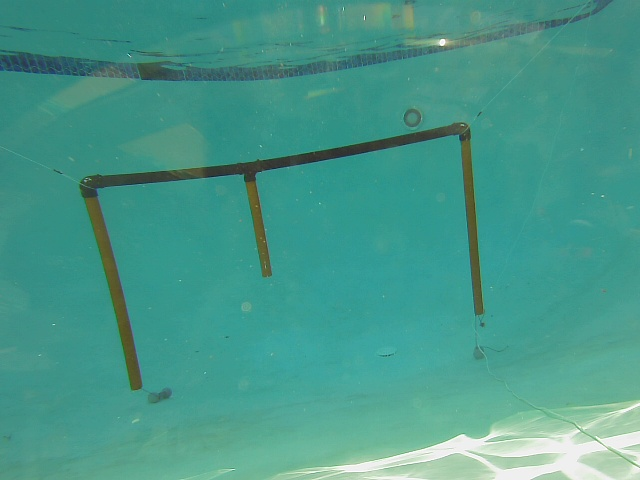Gate: (80, 191, 147, 394), (456, 134, 488, 319), (239, 173, 275, 281)
